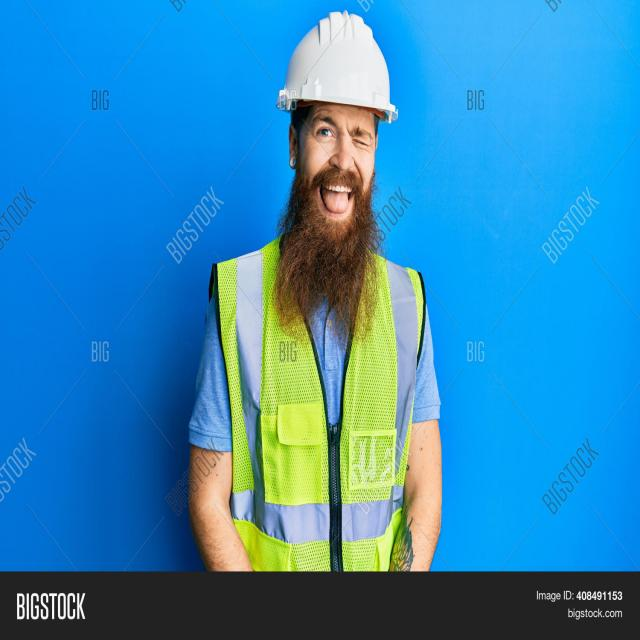Reflective-Jacket: (210, 244, 429, 569)
Safety-Helmet: (277, 10, 397, 116)
